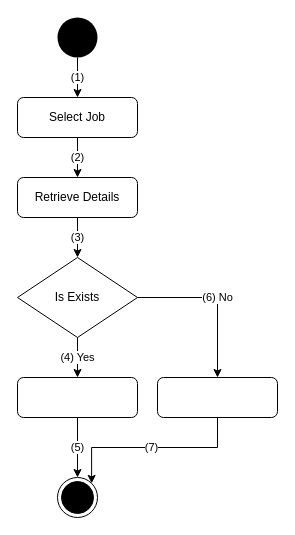
The diagram is 295 pixels wide and 535 high, and some of its shapes have lost their labels. The shapes that lost their labels are listed below. From the top down, each one's centre as x and y in pixels, then its label:
At (77,397): "Display Details".
At (217,397): "Show Error".
